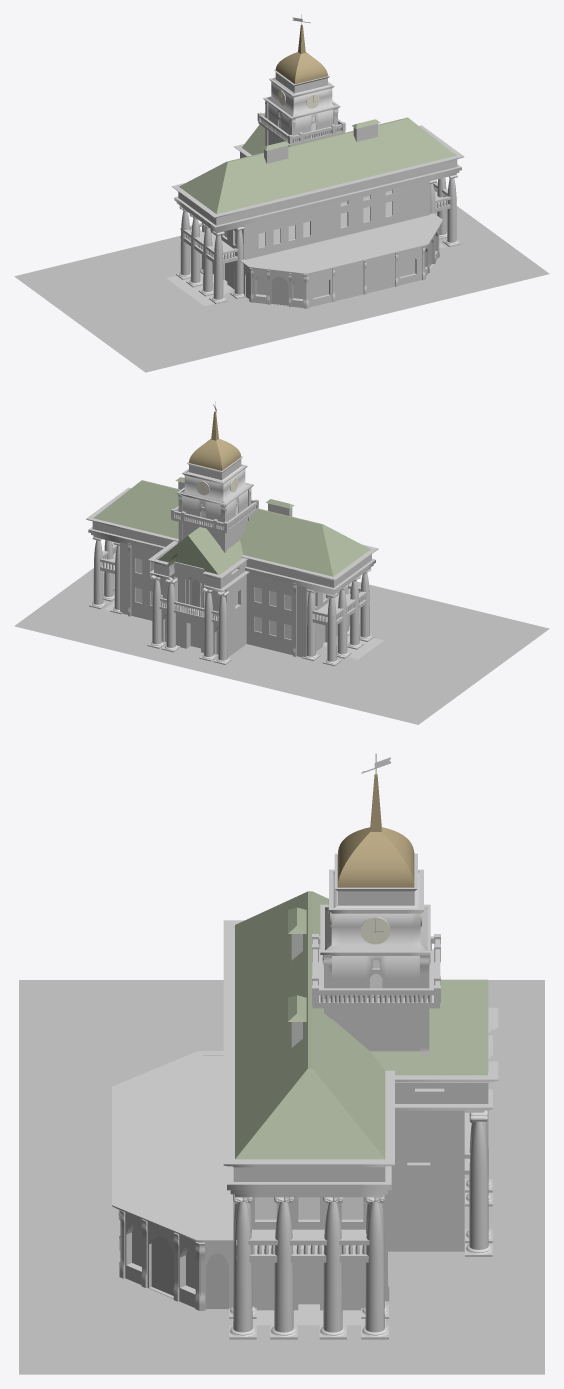
Rendered from ratusha.glb.
3 renders of one model, top to bottom at view 1: azimuth 30°, elevation 25°; view 2: azimuth 150°, elevation 25°; view 3: azimuth 270°, elevation 25°, orthographic. The views are drawn at different scales.
Parts seen in each view (by area): view 1: Plane001, Box01, object 3, object 1, Box02, Loft02, object 2, Loft01, Box04, Loft03, object 4, object 29 (+8 smaller); view 2: Plane001, Box01, object 1, object 64, Box02, object 66, object 2, Loft02, Box04, Loft01, object 65, object 88 (+14 smaller); view 3: Plane001, Box01, object 3, Box02, object 64, object 66, object 1, Loft01, Box04, Loft03, Loft02, object 2 (+18 smaller).
Part boxes in pixels (bbox=[...]): Plane001: bbox=[14, 206, 549, 372]; Box01: bbox=[179, 117, 456, 213]; object 3: bbox=[243, 215, 438, 307]; object 1: bbox=[210, 170, 430, 289]; Box02: bbox=[267, 69, 336, 146]; Loft02: bbox=[174, 164, 461, 232]; object 2: bbox=[178, 156, 457, 225]; Loft01: bbox=[171, 125, 464, 217]; Box04: bbox=[275, 24, 327, 84]; Loft03: bbox=[240, 213, 442, 274]; object 4: bbox=[166, 242, 445, 305]; object 29: bbox=[212, 235, 224, 301]; Plane001: bbox=[14, 568, 549, 724]; Box01: bbox=[93, 480, 370, 576]; object 1: bbox=[120, 542, 339, 657]; object 64: bbox=[160, 572, 246, 657]; Box02: bbox=[180, 456, 249, 549]; object 66: bbox=[154, 527, 243, 579]; object 2: bbox=[92, 521, 371, 587]; Loft02: bbox=[88, 527, 375, 595]; Box04: bbox=[189, 411, 241, 470]; Loft01: bbox=[86, 487, 378, 580]; object 65: bbox=[154, 561, 246, 588]; object 88: bbox=[216, 595, 229, 662]; Plane001: bbox=[19, 980, 544, 1374]; Box01: bbox=[235, 891, 385, 1159]; object 3: bbox=[122, 1056, 233, 1309]; Box02: bbox=[325, 853, 427, 1051]; object 64: bbox=[388, 1110, 464, 1251]; object 66: bbox=[370, 979, 488, 1082]; object 1: bbox=[233, 1194, 384, 1310]; Loft01: bbox=[223, 920, 394, 1167]; Box04: bbox=[337, 774, 414, 887]; Loft03: bbox=[112, 1051, 233, 1242]; Loft02: bbox=[227, 1166, 391, 1197]; object 2: bbox=[233, 929, 385, 1181].
Bounding box in the file's own units: 366 × 204 × 206.
